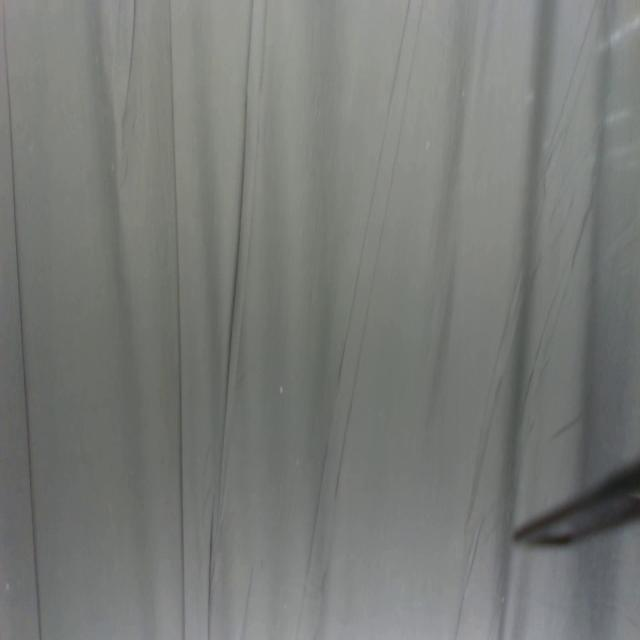crease: (335, 0, 427, 503), (2, 1, 43, 640), (223, 0, 257, 445), (168, 0, 187, 639), (292, 436, 330, 634), (451, 519, 486, 635), (118, 2, 139, 128), (548, 405, 588, 447), (208, 497, 218, 637), (240, 565, 255, 639)
hole: (279, 384, 284, 399)
